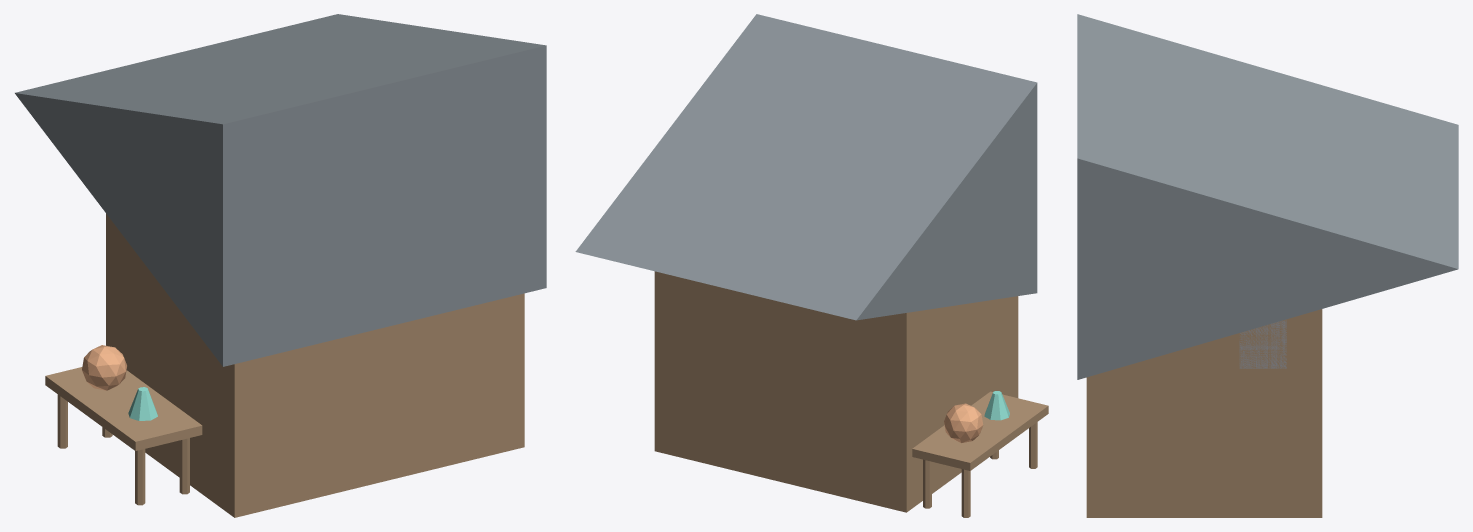
File: apothecary.glb
3 renders of one model, left to right at view 1: azimuth 30°, elevation 25°; view 2: azimuth 150°, elevation 25°; view 3: azimuth 270°, elevation 25°, orthographic. The views are drawn at different scales.
Visible parts, largest first — view 1: apothecary-hero; view 2: apothecary-hero; view 3: apothecary-hero.
Boxes of the visible parts, bbox=[...] form: apothecary-hero: bbox=[15, 14, 546, 517]; apothecary-hero: bbox=[575, 14, 1048, 517]; apothecary-hero: bbox=[1077, 14, 1458, 517].
Bounding box in the file's own units: 3.35 × 3.44 × 3.24.
